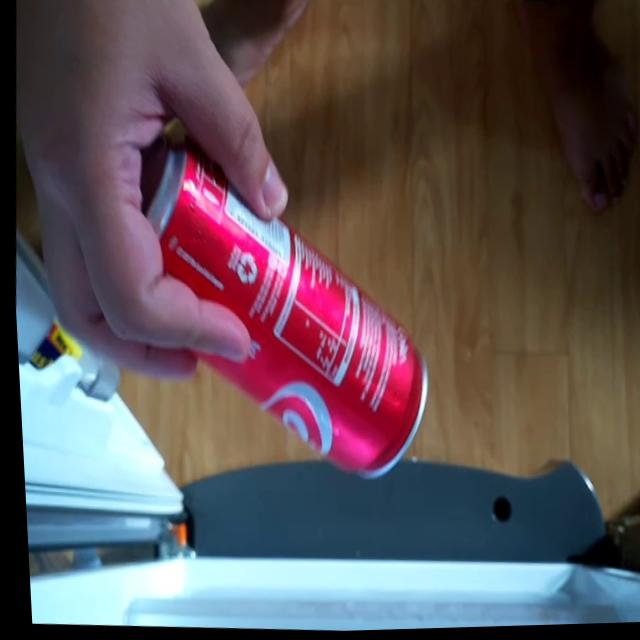coke: (116, 139, 444, 487)
